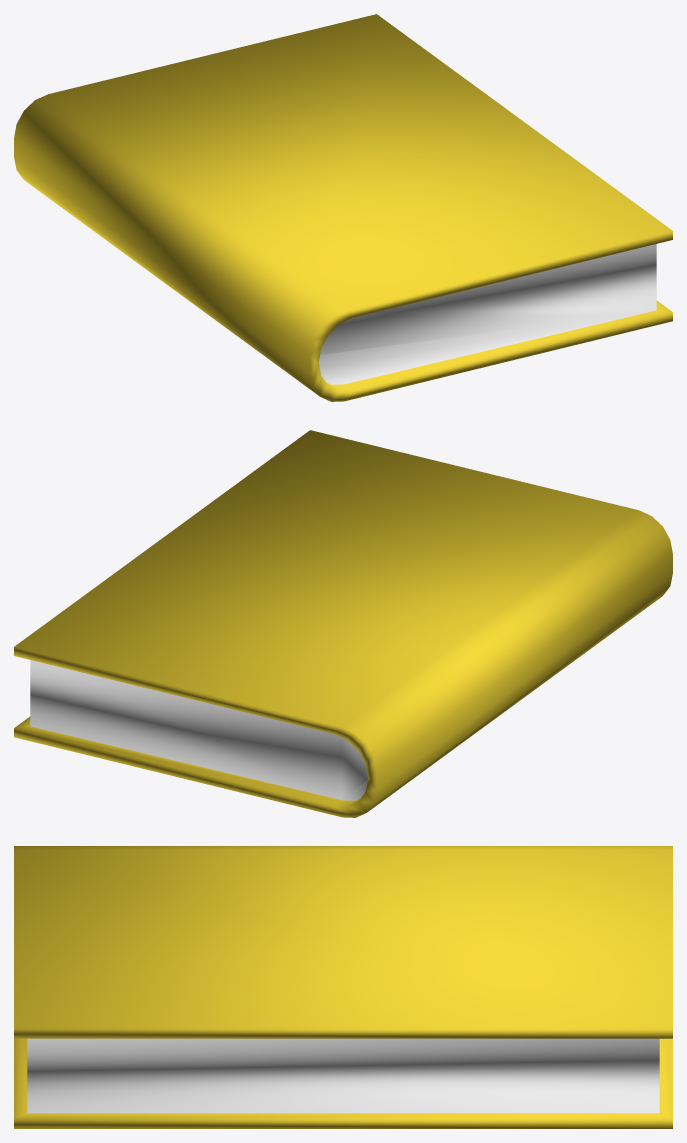
File: ksiazkazolta.fbx
3 views of the same model, one above another, from view 1: azimuth 30°, elevation 25°; view 2: azimuth 150°, elevation 25°; view 3: azimuth 270°, elevation 25° (orthographic). The views are drawn at different scales.
Parts seen in each view (by area): view 1: Cube.001; view 2: Cube.001; view 3: Cube.001.
Boxes of the visible parts, x1,y1,x2,y2 form: Cube.001: [14, 14, 672, 401]; Cube.001: [14, 430, 672, 817]; Cube.001: [14, 846, 672, 1128].
Size of the model in its own units: 420 by 100 by 594.
